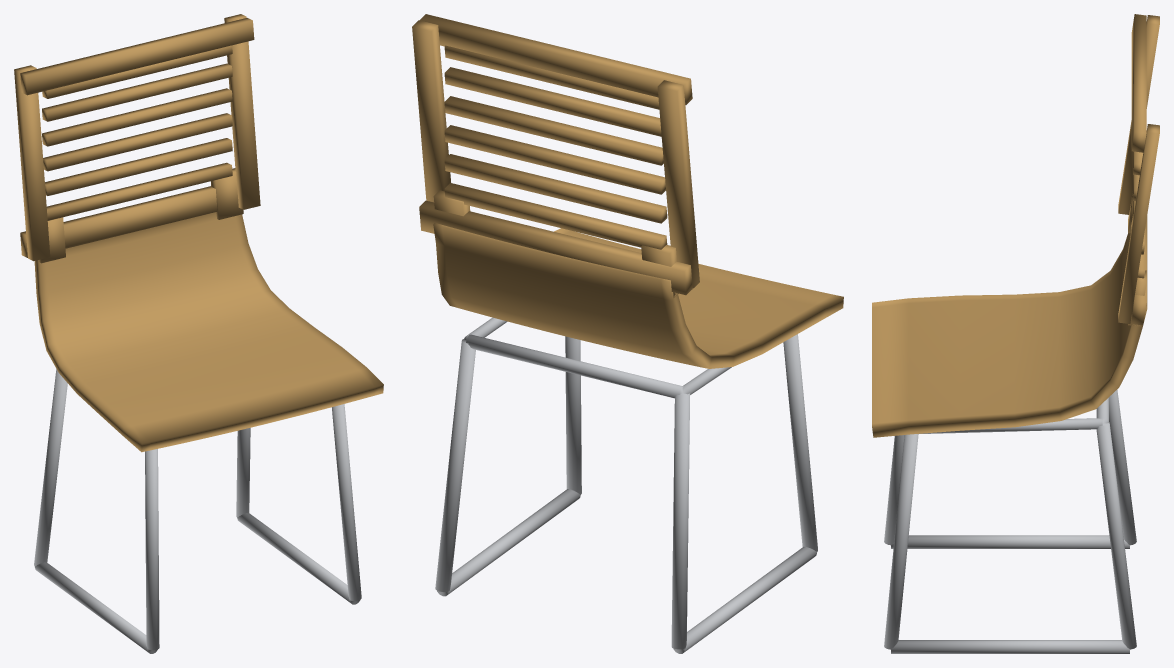
The model's file is WoodSlottedCafeChair.glb.
3 renders of one model, left to right at view 1: azimuth 30°, elevation 25°; view 2: azimuth 150°, elevation 25°; view 3: azimuth 270°, elevation 25°, orthographic. The views are drawn at different scales.
Visible parts, largest first — view 1: WoodShell, ChromeFrame; view 2: WoodShell, ChromeFrame; view 3: WoodShell, ChromeFrame.
Part boxes in pixels (x1=…): WoodShell: x1=14, y1=14, x2=383, y2=452; ChromeFrame: x1=34, y1=369, x2=361, y2=653; WoodShell: x1=412, y1=14, x2=843, y2=368; ChromeFrame: x1=435, y1=317, x2=817, y2=653; WoodShell: x1=872, y1=14, x2=1159, y2=437; ChromeFrame: x1=884, y1=390, x2=1136, y2=653.
Bounding box in the file's own units: 0.494 × 0.9627 × 0.4753.
